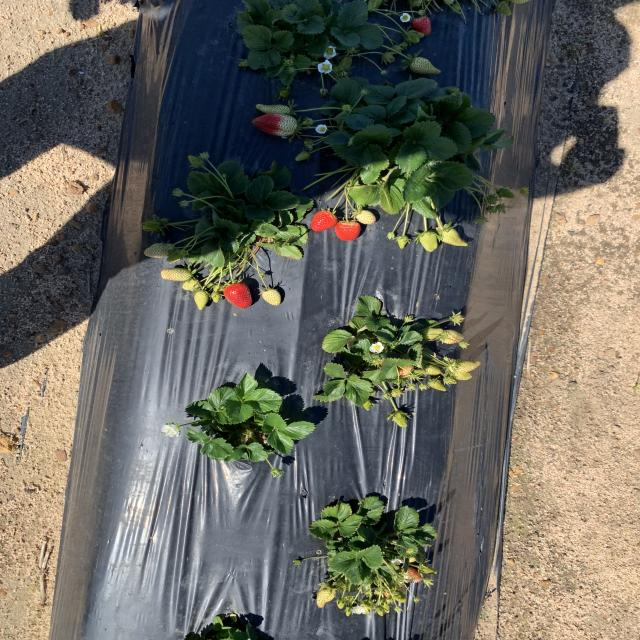unripe: (252, 113, 298, 136), (222, 282, 256, 310), (311, 210, 337, 232), (336, 219, 360, 241), (411, 17, 433, 35)
